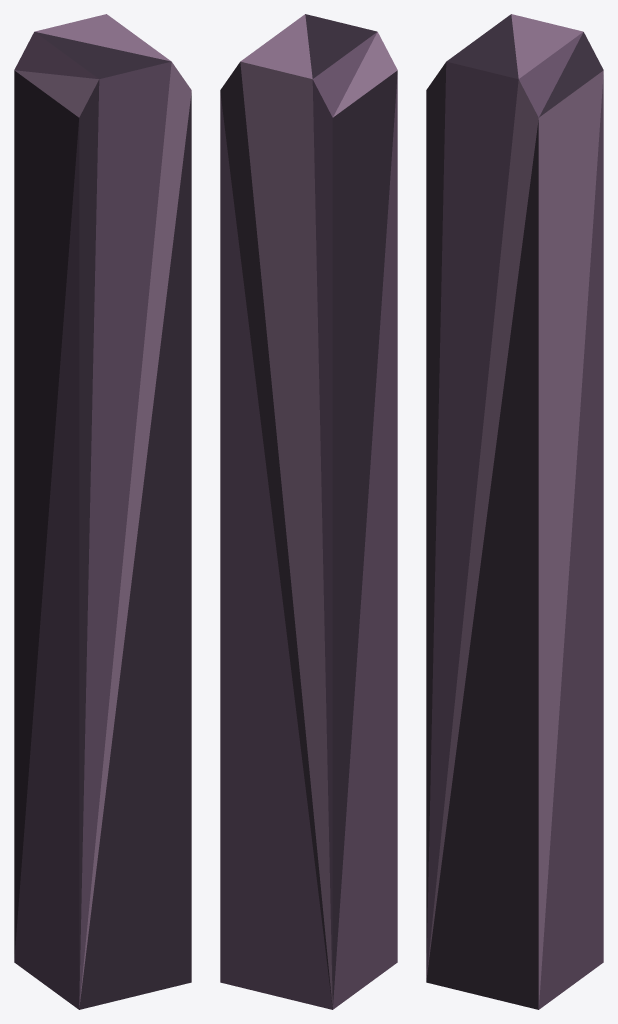
File: TW_TERMINAL_POST.glb
3 views of the same model, side by side, from view 1: azimuth 30°, elevation 25°; view 2: azimuth 150°, elevation 25°; view 3: azimuth 330°, elevation 25° (orthographic).
Visible parts, largest first — view 1: TW_TERMINAL_POST_LOD0; view 2: TW_TERMINAL_POST_LOD0; view 3: TW_TERMINAL_POST_LOD0.
Part boxes in pixels (x1=…): TW_TERMINAL_POST_LOD0: x1=14, y1=14, x2=191, y2=1009; TW_TERMINAL_POST_LOD0: x1=220, y1=14, x2=397, y2=1009; TW_TERMINAL_POST_LOD0: x1=426, y1=14, x2=603, y2=1009.
Size of the model in its own units: 0.14 by 1.1 by 0.14.
1 material, 1 textured.
